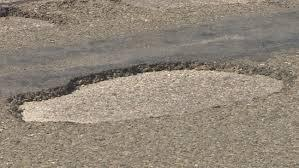pothole: (19, 60, 291, 124)
